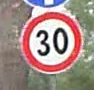limite 30: (18, 10, 83, 74)
